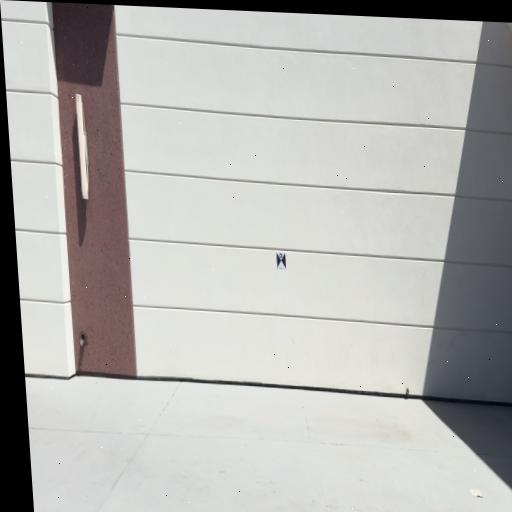target0: (276, 250, 286, 269)
